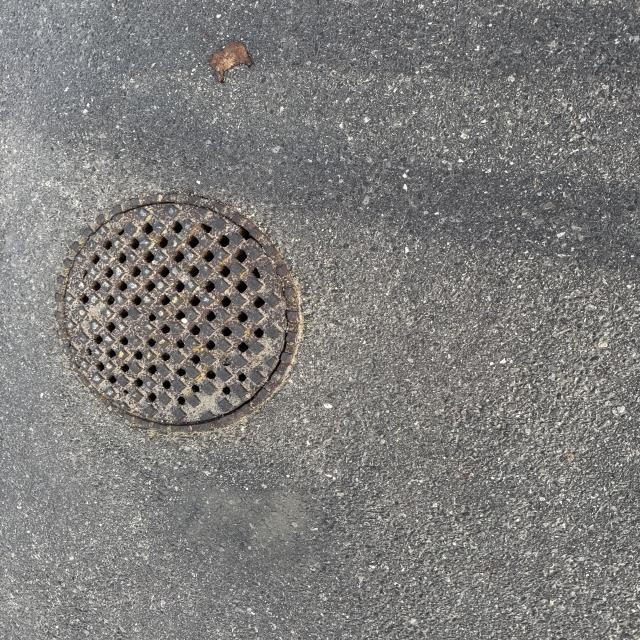Manhole: (51, 194, 309, 427)
